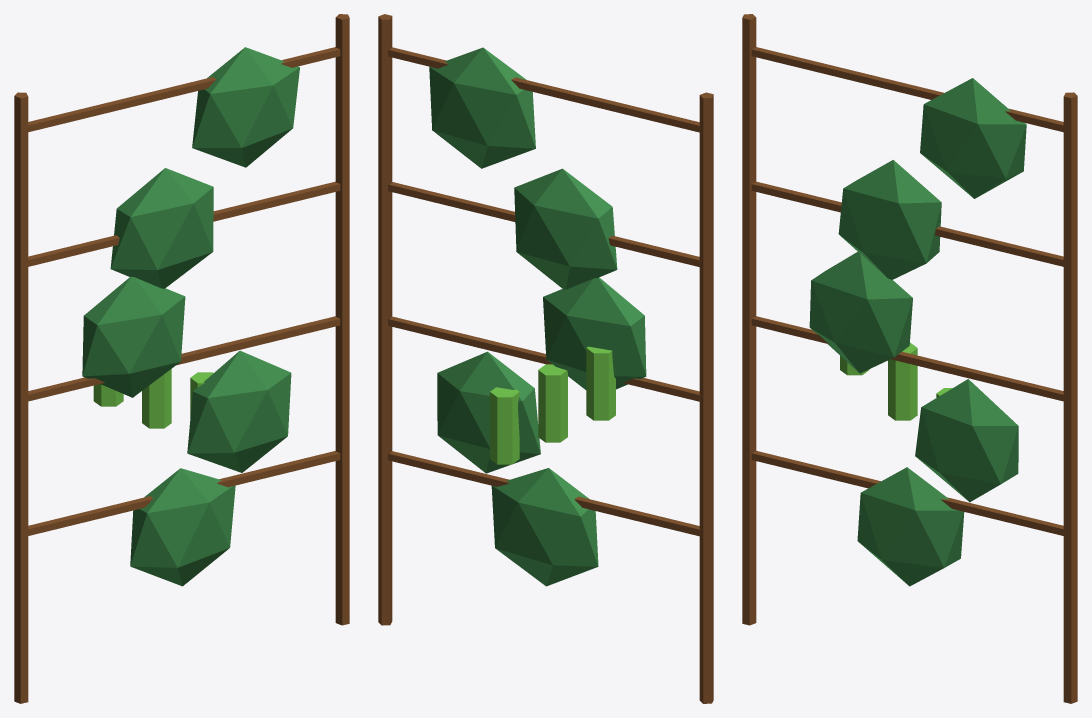
File: hydro_cucumber_trellis.glb
The picture shows the model from 3 angles, left to right: view 1: azimuth 30°, elevation 25°; view 2: azimuth 150°, elevation 25°; view 3: azimuth 330°, elevation 25°; orthographic projection.
Visible parts, largest first — view 1: cucumber_trellis; view 2: cucumber_trellis; view 3: cucumber_trellis.
Part boxes in pixels (box(x1,y1,x2,y2)): cucumber_trellis: box(14, 14, 349, 703); cucumber_trellis: box(378, 14, 713, 703); cucumber_trellis: box(742, 14, 1077, 703).
Size of the model in its own units: 1.04 by 1.8 by 0.1539.
